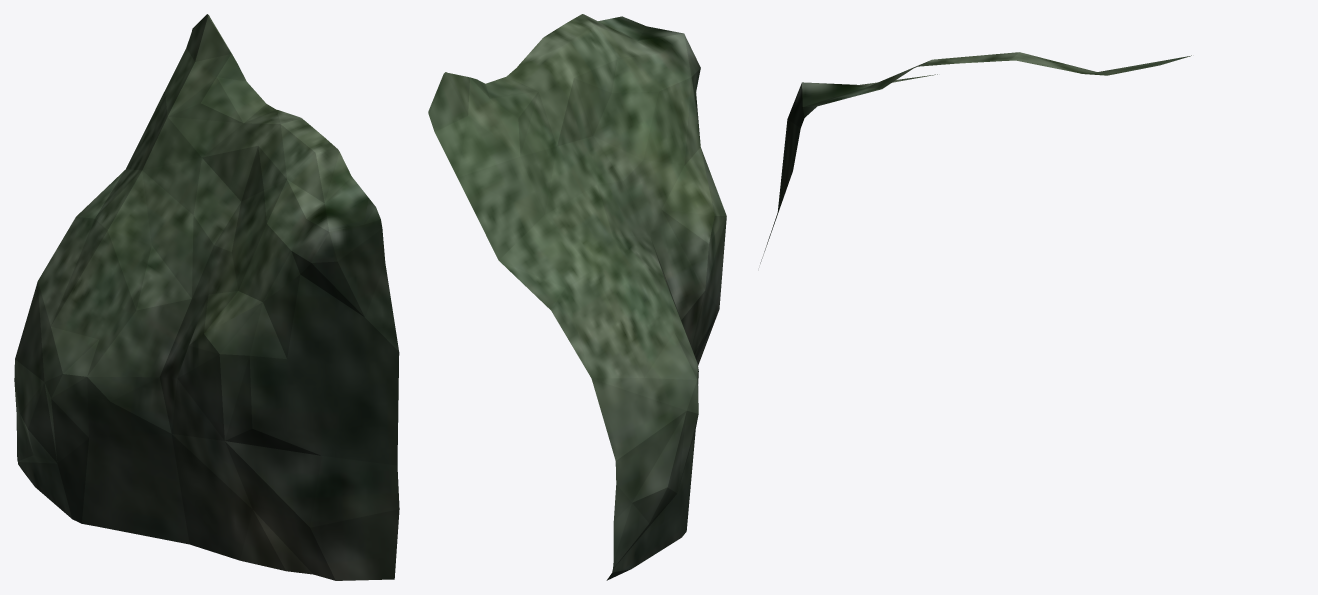
3 renders of one model, left to right at view 1: azimuth 30°, elevation 25°; view 2: azimuth 150°, elevation 25°; view 3: azimuth 270°, elevation 25°, orthographic. The views are drawn at different scales.
Size of the model in its own units: 0.845 by 1.74 by 1.53.
1 material, 1 textured.
